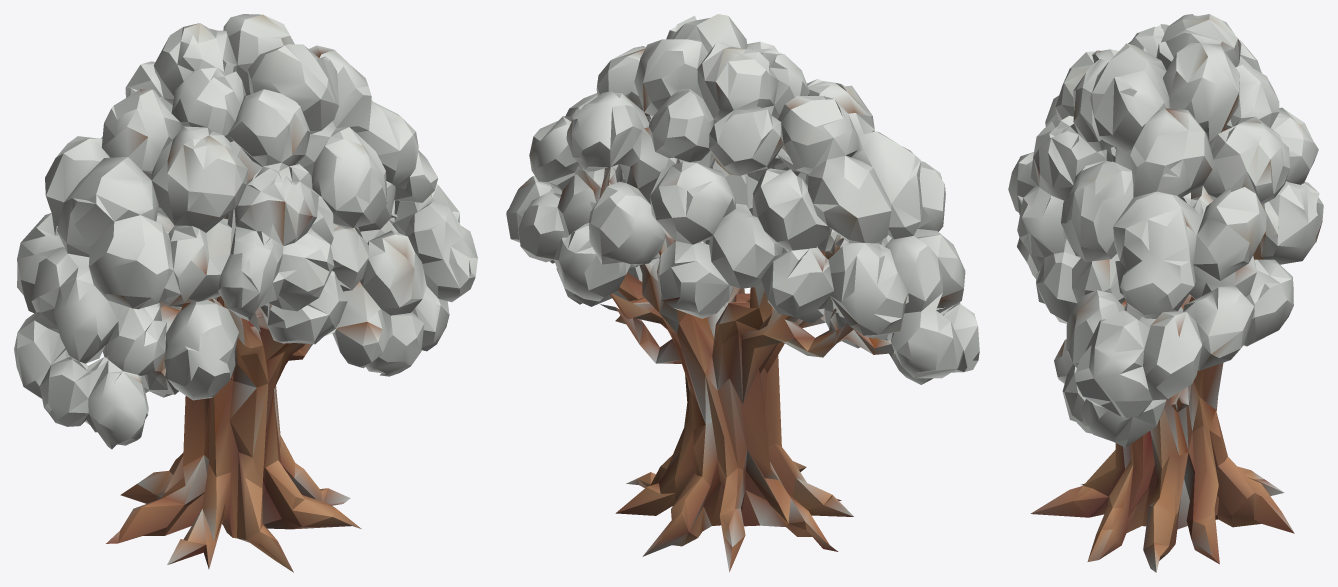
Rendered from oak.glb.
The picture shows the model from 3 angles, left to right: view 1: azimuth 30°, elevation 25°; view 2: azimuth 150°, elevation 25°; view 3: azimuth 270°, elevation 25°; orthographic projection.
Parts seen in each view (by area): view 1: geometry_0; view 2: geometry_0; view 3: geometry_0.
Boxes of the visible parts, left/top/right/bottom form: geometry_0: left=14, top=14, right=477, bottom=572; geometry_0: left=506, top=14, right=979, bottom=572; geometry_0: left=1008, top=14, right=1323, bottom=572.
Bounding box in the file's own units: 5.6 × 5.9 × 3.41.
